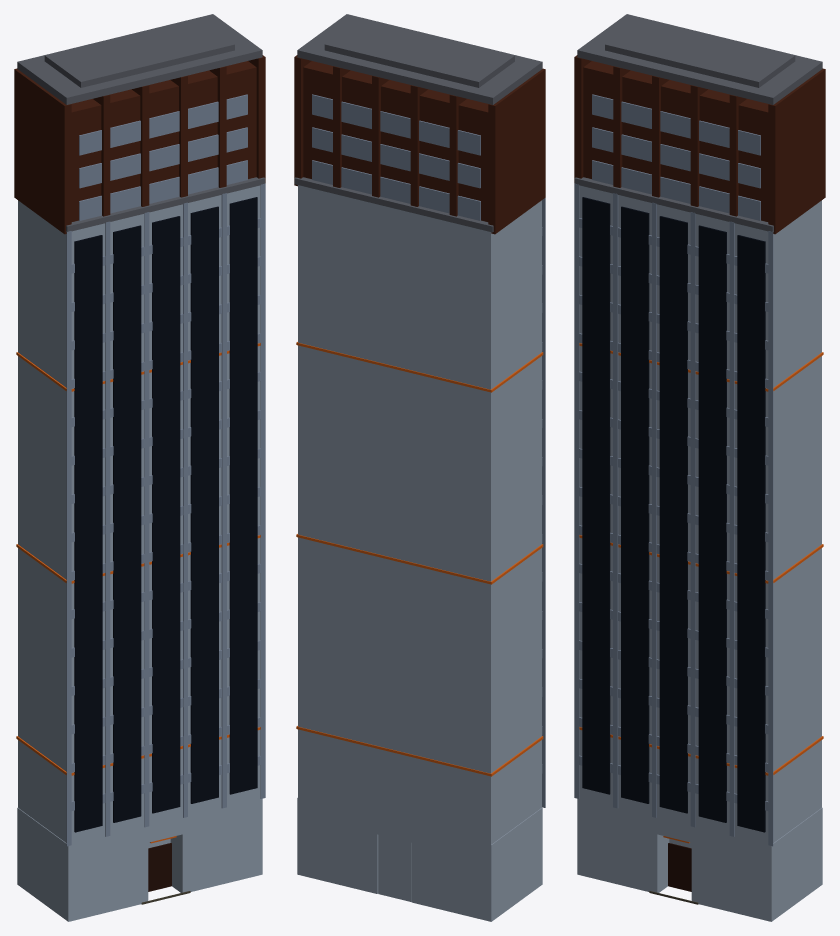
Rendered from pinnacle5.obj.
3 renders of one model, left to right at view 1: azimuth 30°, elevation 25°; view 2: azimuth 150°, elevation 25°; view 3: azimuth 330°, elevation 25°, orthographic.
Parts seen in each view (by area): view 1: windows, shaft, fins, base-jambs, crown-piers, crown-cap, crown, crown-louvres, spandrels, shaft-cap, entrance, window-lights (+1 smaller); view 2: shaft, base-jambs, crown-piers, crown-cap, crown, crown-louvres, window-lights, fins, portal-back, shaft-cap, portal-head; view 3: windows, shaft, fins, base-jambs, crown-piers, crown-cap, crown, crown-louvres, spandrels, shaft-cap, entrance, window-lights (+1 smaller).
Part boxes in pixels (left/top/right/bottom): windows: left=74, top=197, right=257, bottom=832; shaft: left=18, top=185, right=260, bottom=844; fins: left=66, top=183, right=265, bottom=846; base-jambs: left=17, top=798, right=262, bottom=921; crown-piers: left=14, top=55, right=265, bottom=234; crown-cap: left=17, top=14, right=262, bottom=104; crown: left=71, top=61, right=256, bottom=221; crown-louvres: left=79, top=94, right=247, bottom=220; spandrels: left=71, top=218, right=260, bottom=810; shaft-cap: left=66, top=177, right=265, bottom=231; entrance: left=148, top=843, right=171, bottom=891; window-lights: left=16, top=343, right=260, bottom=775; shaft: left=298, top=185, right=541, bottom=844; base-jambs: left=297, top=797, right=542, bottom=921; crown-piers: left=294, top=55, right=545, bottom=234; crown-cap: left=297, top=14, right=542, bottom=104; crown: left=303, top=61, right=488, bottom=221; crown-louvres: left=312, top=94, right=480, bottom=220; window-lights: left=296, top=342, right=543, bottom=776; fins: left=542, top=198, right=545, bottom=807; portal-back: left=378, top=834, right=411, bottom=901; shaft-cap: left=294, top=177, right=493, bottom=232; portal-head: left=377, top=817, right=411, bottom=842; windows: left=582, top=197, right=765, bottom=832; shaft: left=579, top=185, right=821, bottom=844; fins: left=574, top=183, right=773, bottom=846; base-jambs: left=577, top=798, right=822, bottom=921; crown-piers: left=574, top=55, right=825, bottom=234; crown-cap: left=577, top=14, right=822, bottom=104; crown: left=583, top=61, right=768, bottom=221; crown-louvres: left=592, top=94, right=760, bottom=220; spandrels: left=579, top=218, right=768, bottom=810; shaft-cap: left=574, top=177, right=773, bottom=231; entrance: left=668, top=843, right=691, bottom=891; window-lights: left=579, top=343, right=823, bottom=775.
Bounding box in the file's own units: 7.04 × 27.78 × 3.21.
